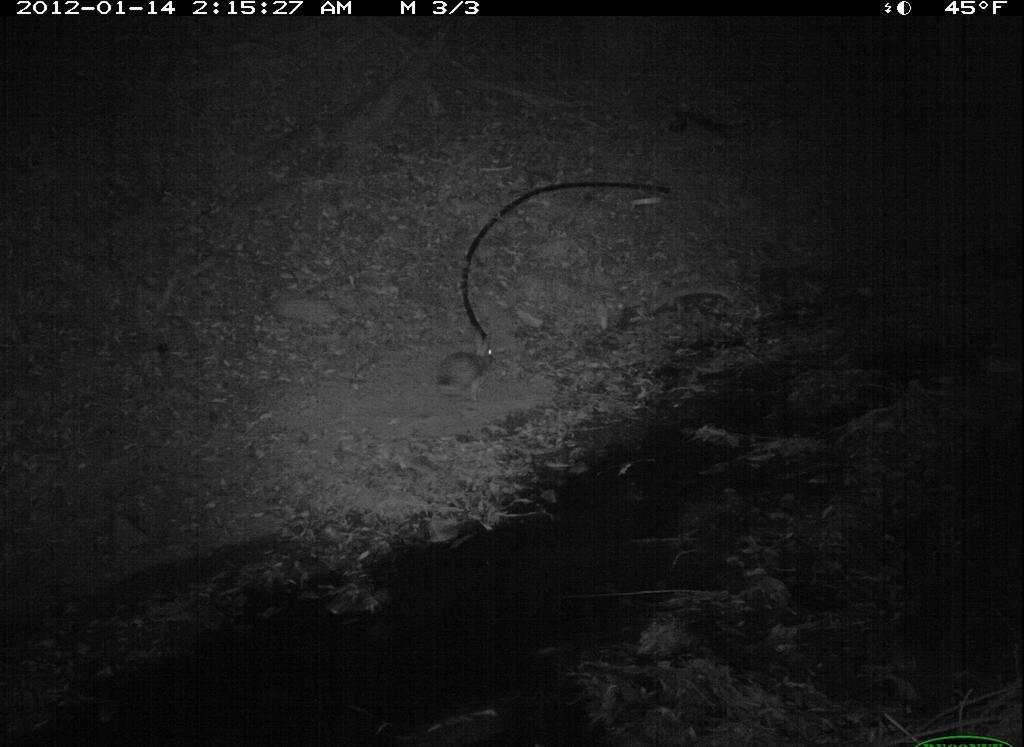rabbit: (424, 328, 504, 405)
